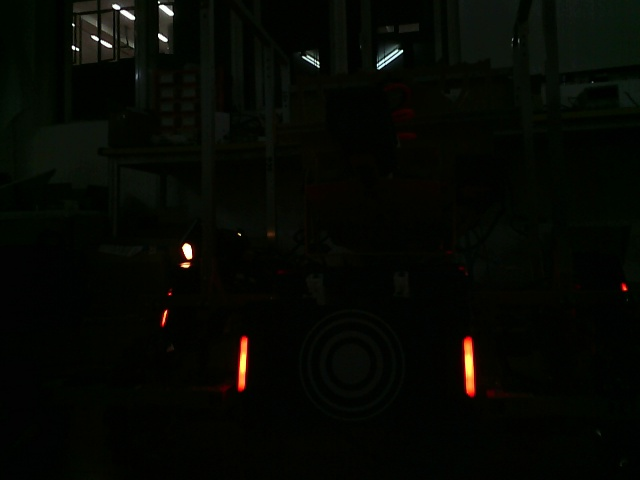lamp: (458, 335, 478, 398), (233, 335, 251, 392)
